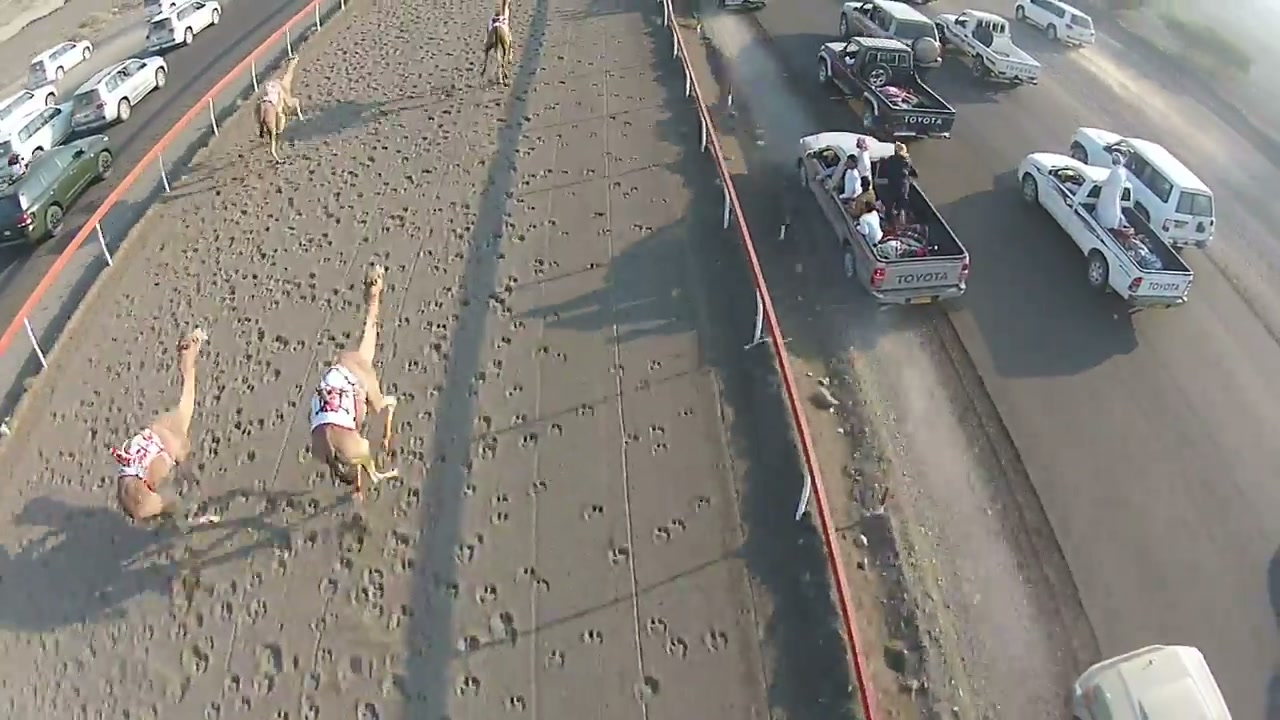animal_foot_print: (175, 91, 409, 713), (326, 96, 537, 717), (540, 176, 726, 713)
